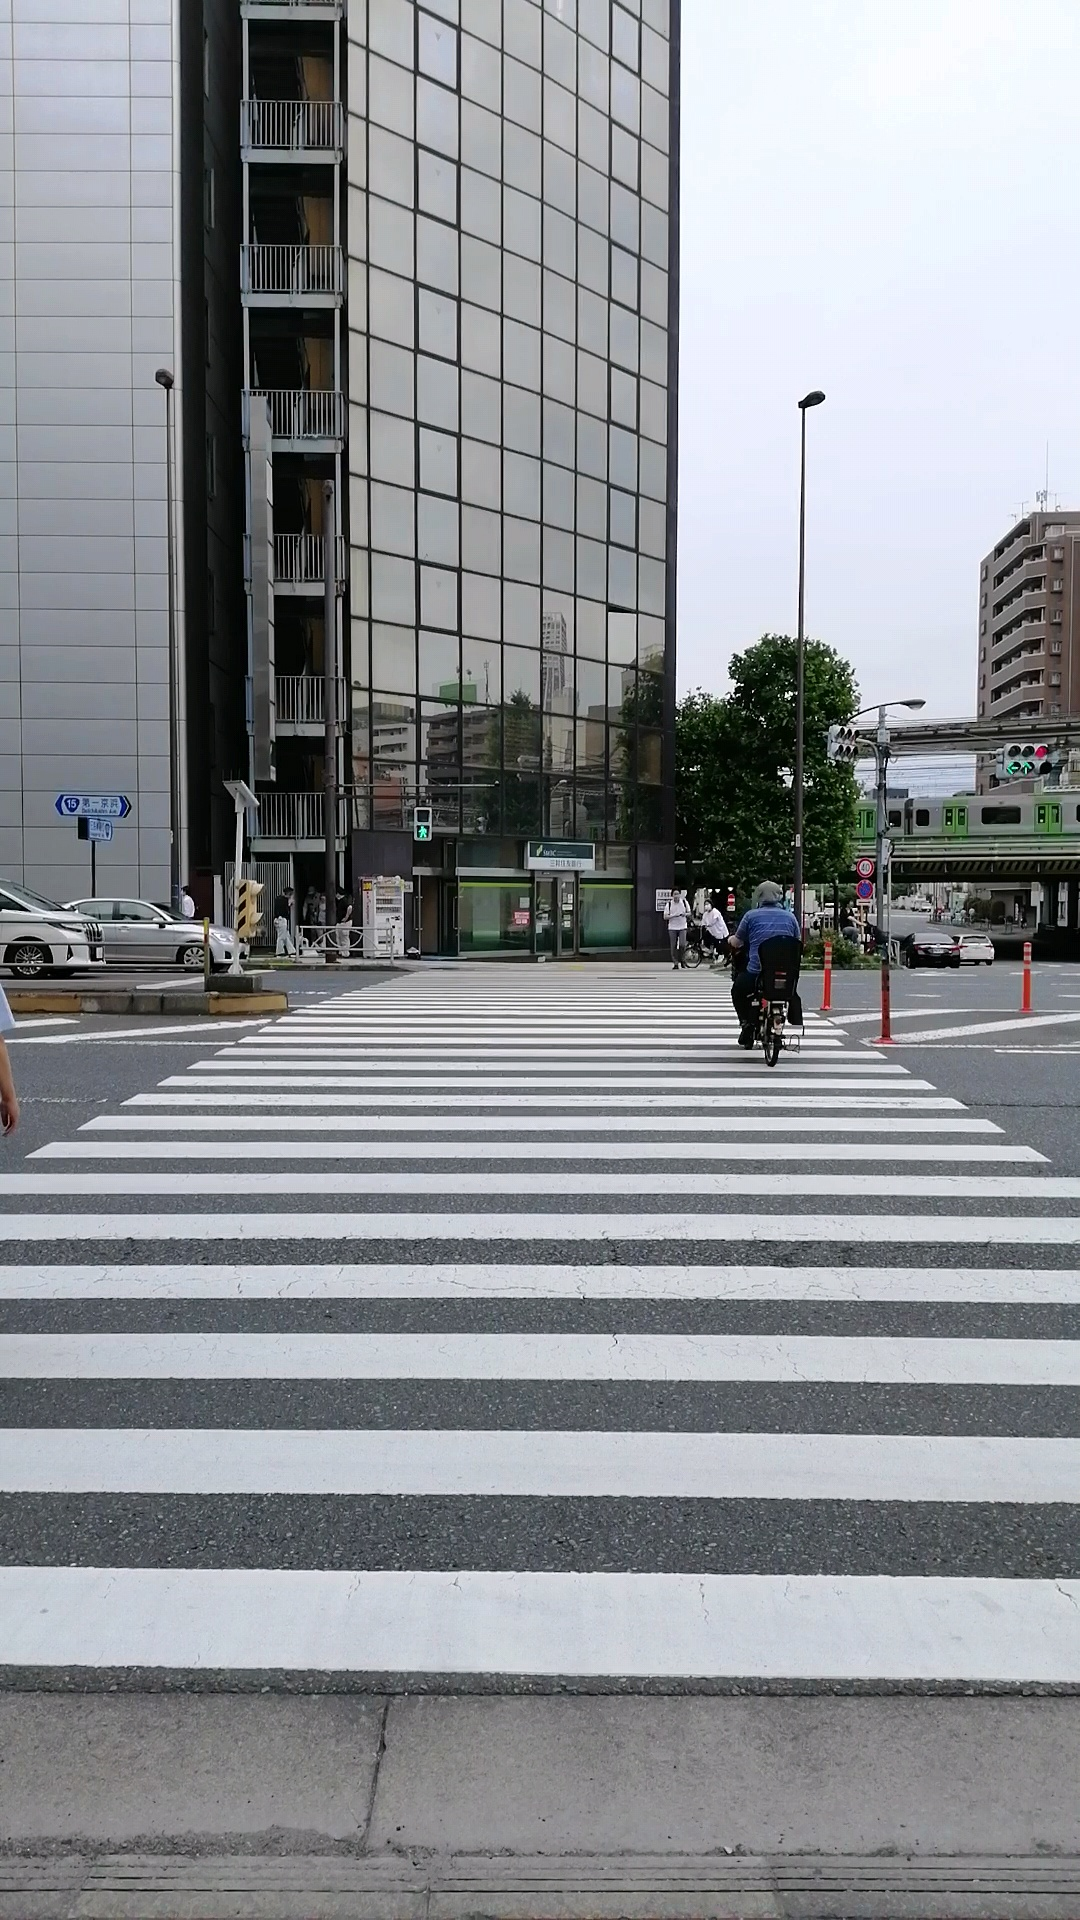green: (411, 804, 433, 844)
